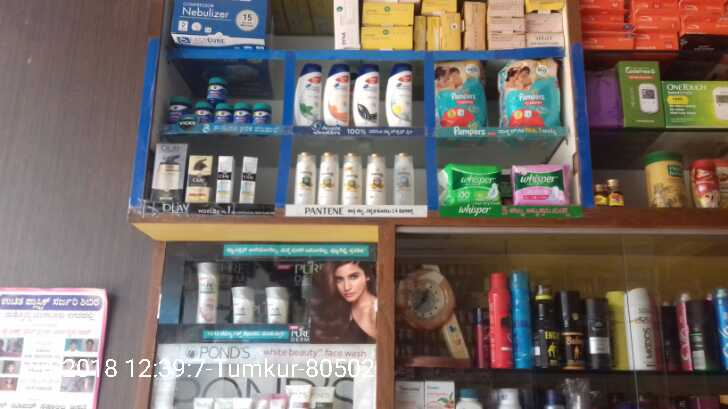vicks: (167, 71, 270, 127)
